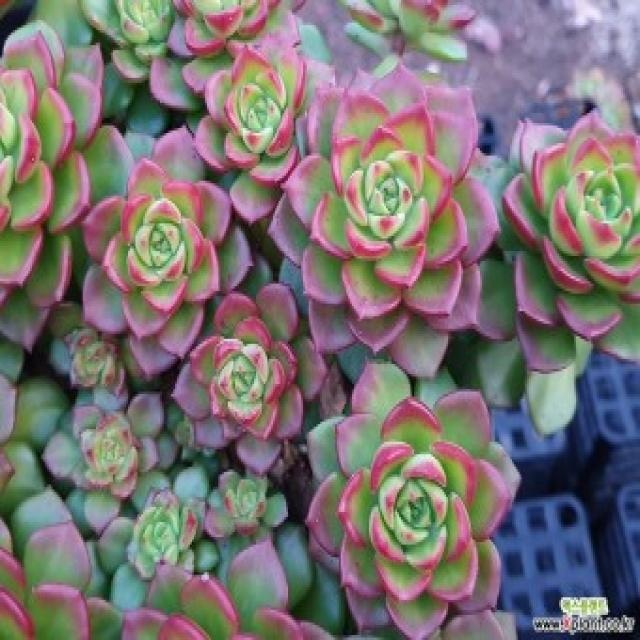Letizia: (271, 65, 499, 376), (306, 362, 519, 638), (84, 127, 250, 377), (502, 113, 640, 376), (42, 390, 170, 534), (205, 473, 288, 537)
